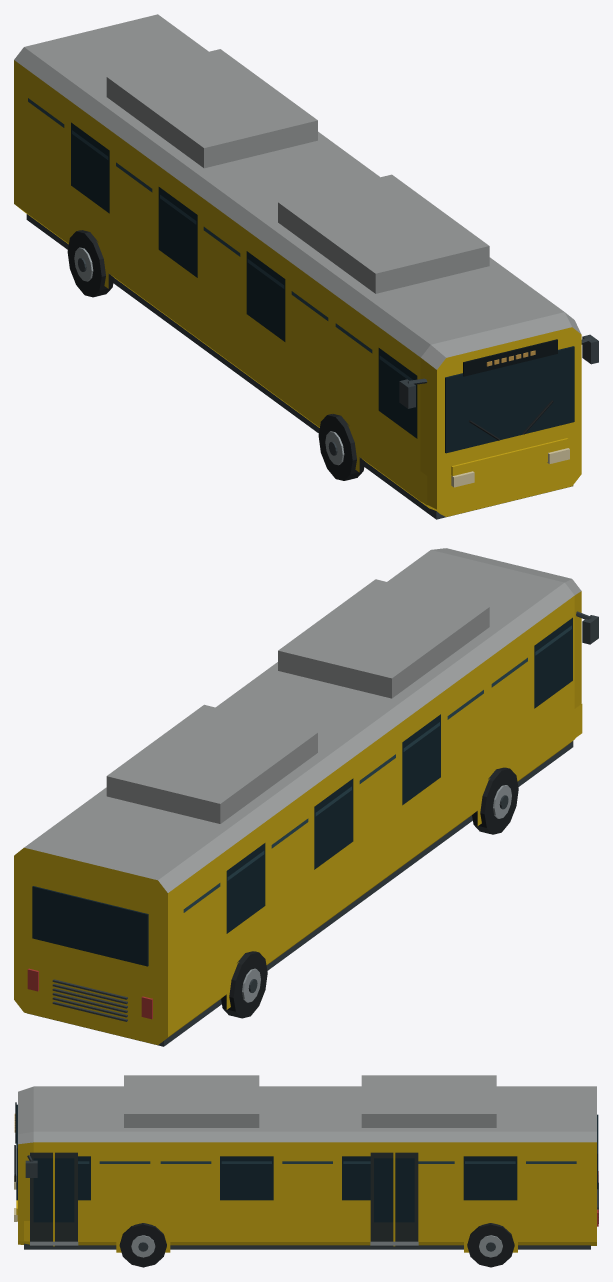
File: bus-bvg-electric.glb
The picture shows the model from 3 angles, top to bottom: view 1: azimuth 30°, elevation 25°; view 2: azimuth 150°, elevation 25°; view 3: azimuth 270°, elevation 25°; orthographic projection. The views are drawn at different scales.
Visible parts, largest first — view 1: bus-bvg-electric.segment-01.005; view 2: bus-bvg-electric.segment-01.005; view 3: bus-bvg-electric.segment-01.005.
Boxes of the visible parts, x1,y1,x2,y2 form: bus-bvg-electric.segment-01.005: (14,14,598,519); bus-bvg-electric.segment-01.005: (14,548,598,1046); bus-bvg-electric.segment-01.005: (14,1075,598,1267).
Size of the model in its own units: 3.16 by 3.31 by 12.12.
